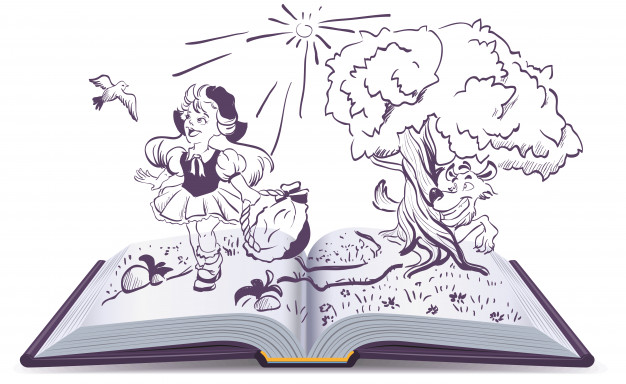Lobo: (411, 149, 502, 267)
